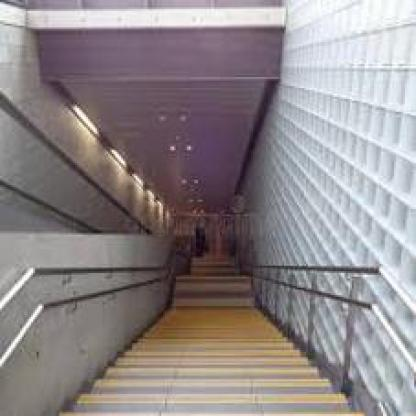stair_down: (93, 324, 312, 414)
